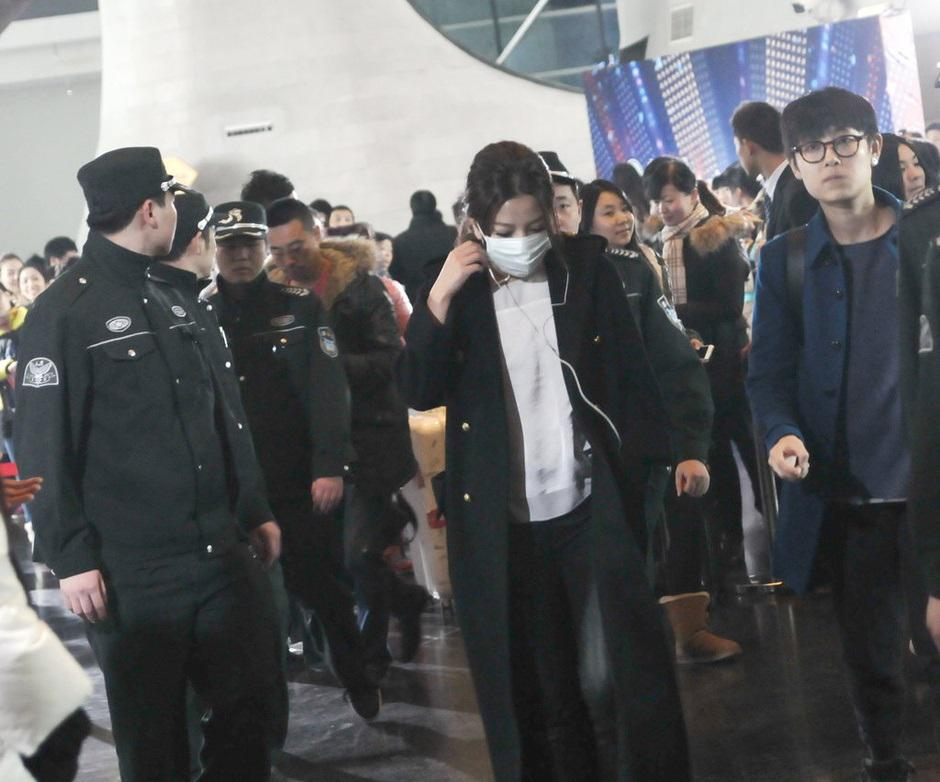NONE: (797, 123, 873, 199), (216, 231, 266, 282), (271, 226, 321, 276), (535, 195, 583, 242), (891, 147, 927, 204), (152, 188, 180, 256), (599, 197, 635, 244), (652, 187, 688, 228), (23, 263, 52, 300), (201, 229, 220, 277), (330, 207, 357, 234), (736, 136, 753, 176), (3, 261, 25, 290), (715, 188, 735, 211)
OK: (482, 206, 547, 274)
